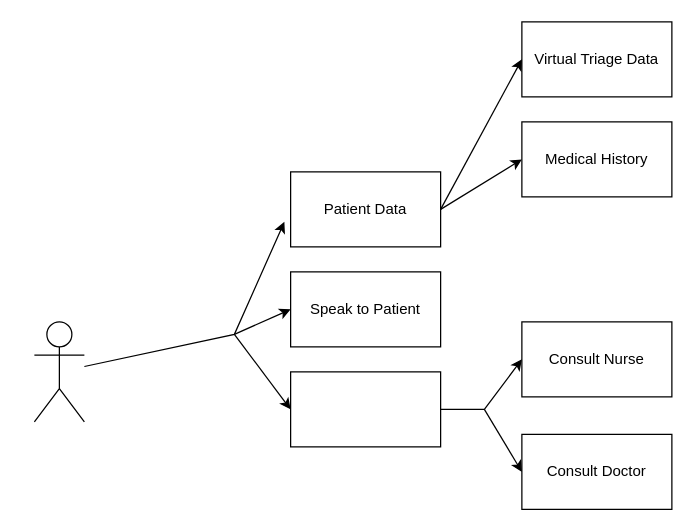
This 694x531 diagram has some shape labels left out. Each missing label, with the box of its shape:
Consult Patient's Caregiver: (289, 371, 441, 447)
Pharmacist: (33, 321, 84, 422)
